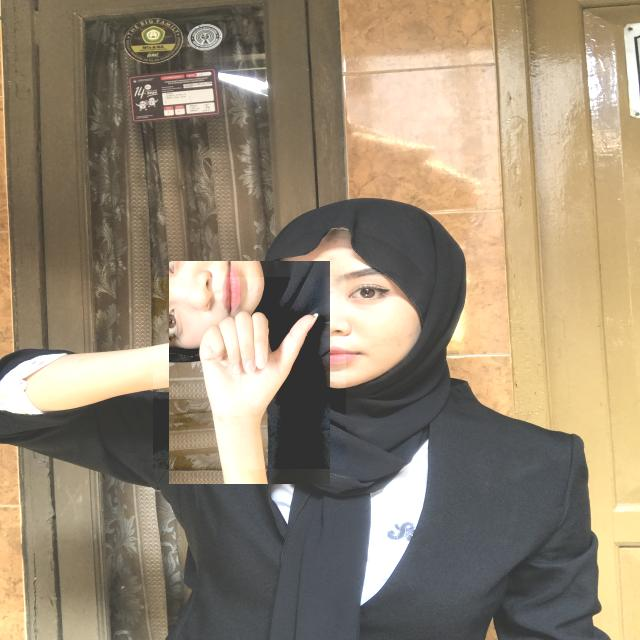sedih: (153, 277, 346, 469)
